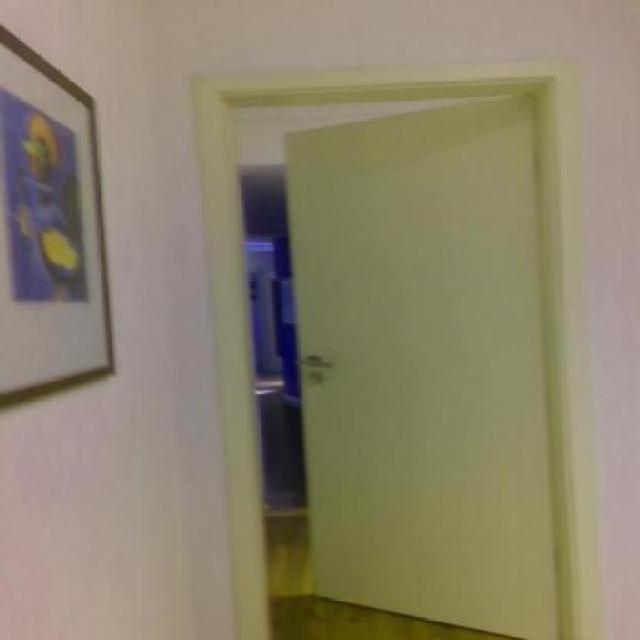door_handle: (292, 356, 344, 378)
